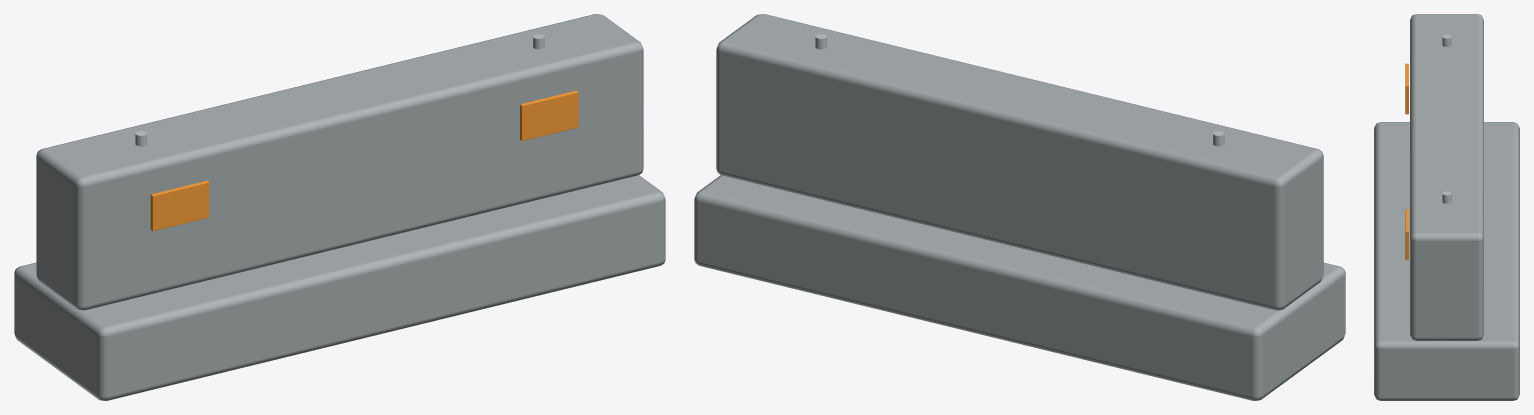
File: container-inspection-and-customs-yard-container-inspec-a9cf6afa__29309.glb
The picture shows the model from 3 angles, left to right: view 1: azimuth 30°, elevation 25°; view 2: azimuth 150°, elevation 25°; view 3: azimuth 270°, elevation 25°; orthographic projection. The views are drawn at different scales.
Parts seen in each view (by area): view 1: container-inspection-and-customs-yard-concrete-lane-divider_ (×2); view 2: container-inspection-and-customs-yard-concrete-lane-divider_; view 3: container-inspection-and-customs-yard-concrete-lane-divider_ (×3).
Boxes of the visible parts, <box> form: container-inspection-and-customs-yard-concrete-lane-divider_ (×2): <box>14,14,665,400</box>; container-inspection-and-customs-yard-concrete-lane-divider_: <box>694,14,1345,400</box>; container-inspection-and-customs-yard-concrete-lane-divider_ (×3): <box>1374,14,1519,400</box>.
Size of the model in its own units: 2 by 0.735 by 0.5501.
